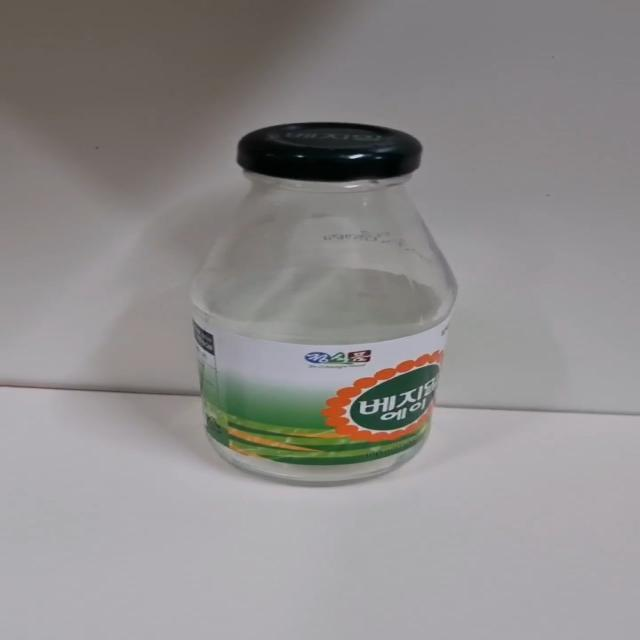Glass: (186, 115, 467, 489)
